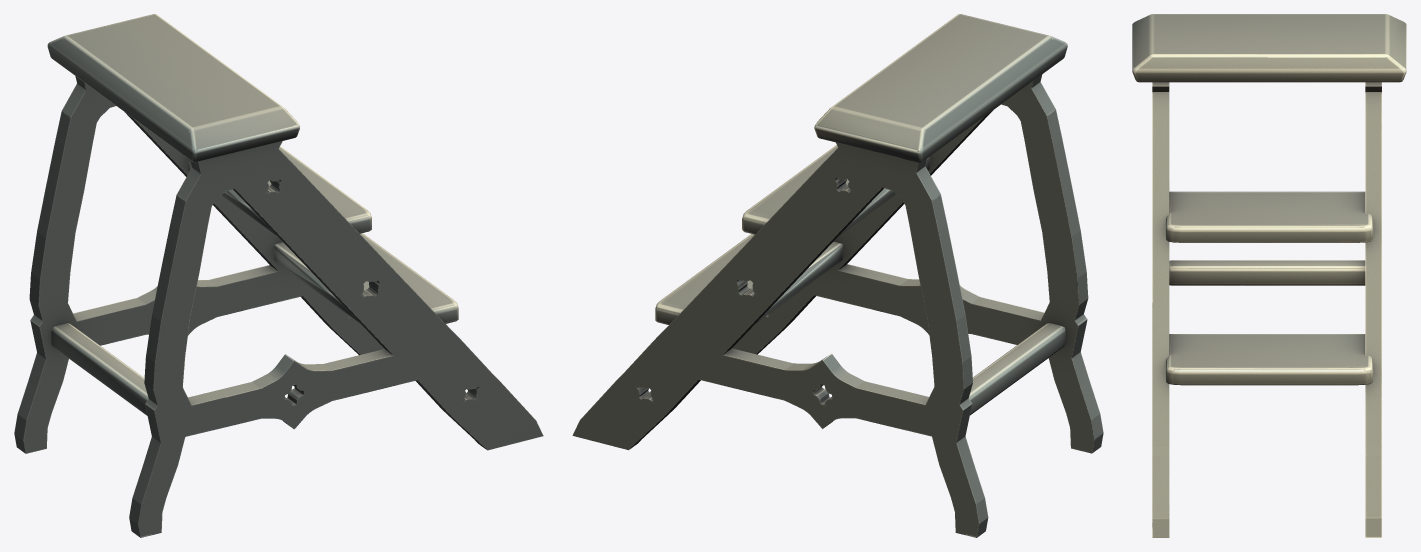
The model's file is steps.fbx.
The picture shows the model from 3 angles, left to right: view 1: azimuth 30°, elevation 25°; view 2: azimuth 150°, elevation 25°; view 3: azimuth 270°, elevation 25°; orthographic projection. The views are drawn at different scales.
Visible parts, largest first — view 1: Plane; view 2: Plane; view 3: Plane.
Part boxes in pixels (x1,y1,x2,y2): Plane: (14,14,543,537); Plane: (572,14,1103,537); Plane: (1132,14,1406,537).
Bounding box in the file's own units: 1002 × 938 × 633.
Materials: 1 (1 with a texture image).
